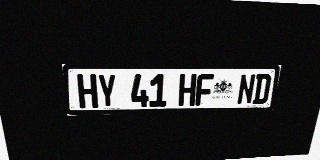1: (149, 74, 167, 107)
4: (131, 74, 149, 107)
D: (252, 74, 272, 104)
F: (195, 74, 214, 106)
H: (77, 74, 98, 108), (178, 74, 197, 106)
N: (236, 74, 256, 105)
Y: (97, 74, 117, 108)
